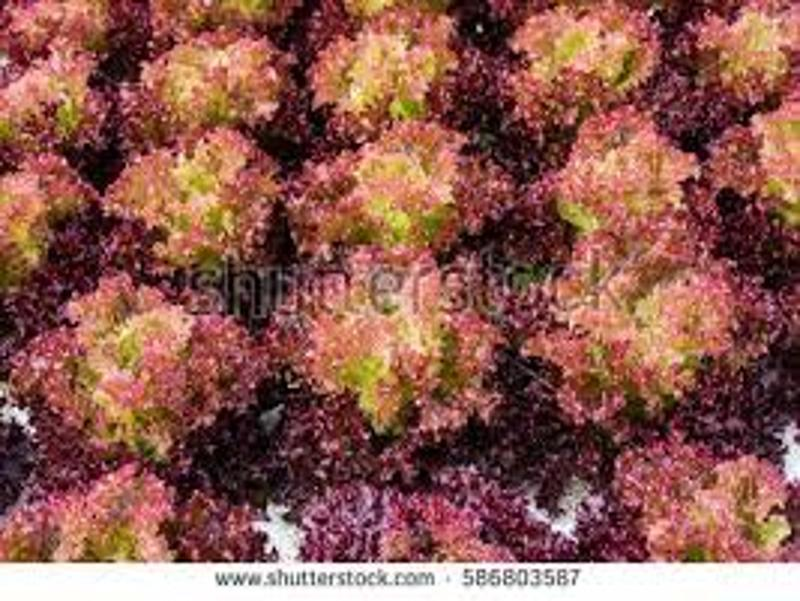red lettuce: (530, 210, 792, 441), (278, 252, 524, 468), (37, 268, 266, 458), (290, 126, 525, 262), (588, 444, 798, 560), (535, 107, 722, 236), (119, 128, 284, 267), (327, 478, 577, 568), (501, 1, 666, 128), (46, 466, 251, 563), (140, 30, 298, 141), (316, 27, 490, 127), (4, 151, 112, 291), (2, 51, 121, 161), (680, 4, 800, 107), (721, 97, 800, 241), (8, 1, 150, 68)
